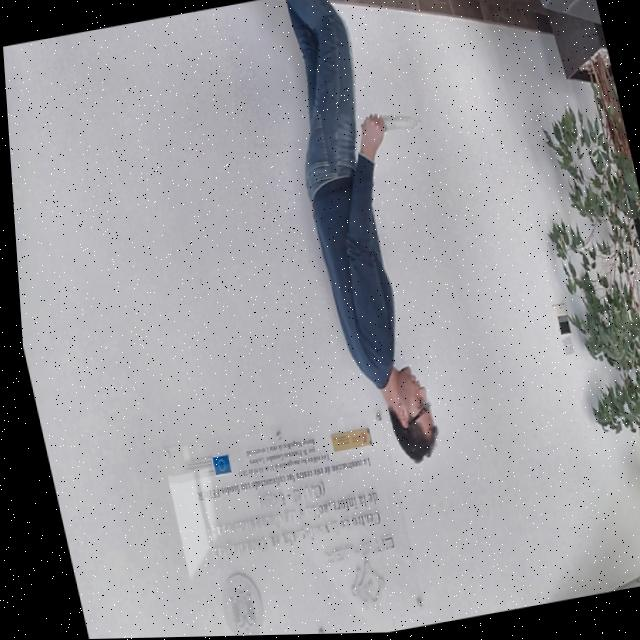knife: (372, 108, 424, 148)
